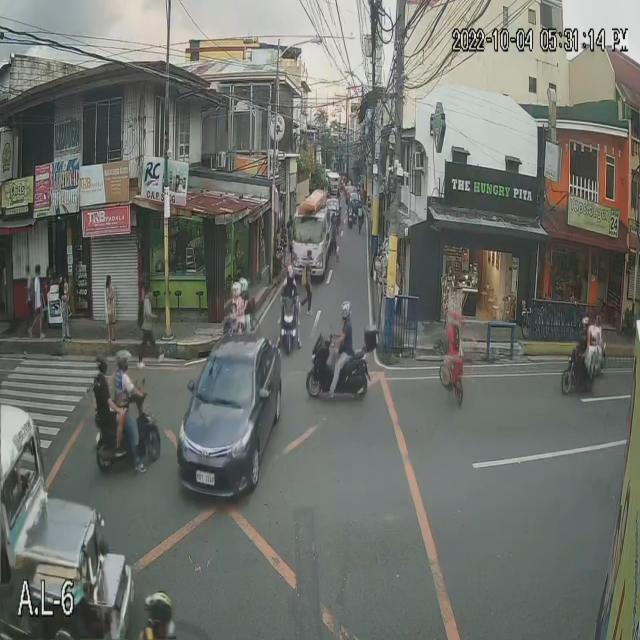Full-Faced: (74, 578, 102, 622), (88, 351, 110, 380), (112, 347, 130, 370), (230, 279, 246, 302), (348, 299, 363, 323), (284, 270, 296, 293), (247, 274, 258, 296), (592, 316, 602, 335), (288, 259, 296, 277)
Not-Wearing-Helmet: (605, 316, 614, 330)
